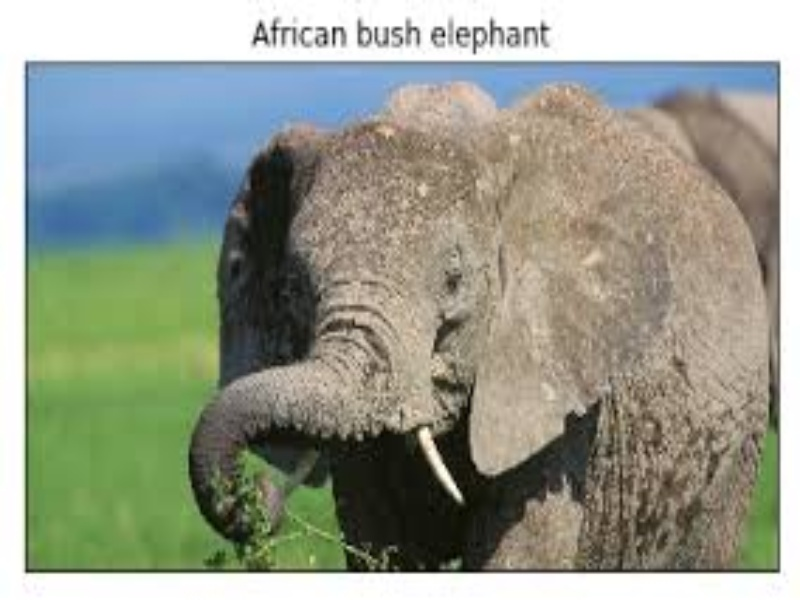elephant: (179, 85, 766, 567)
